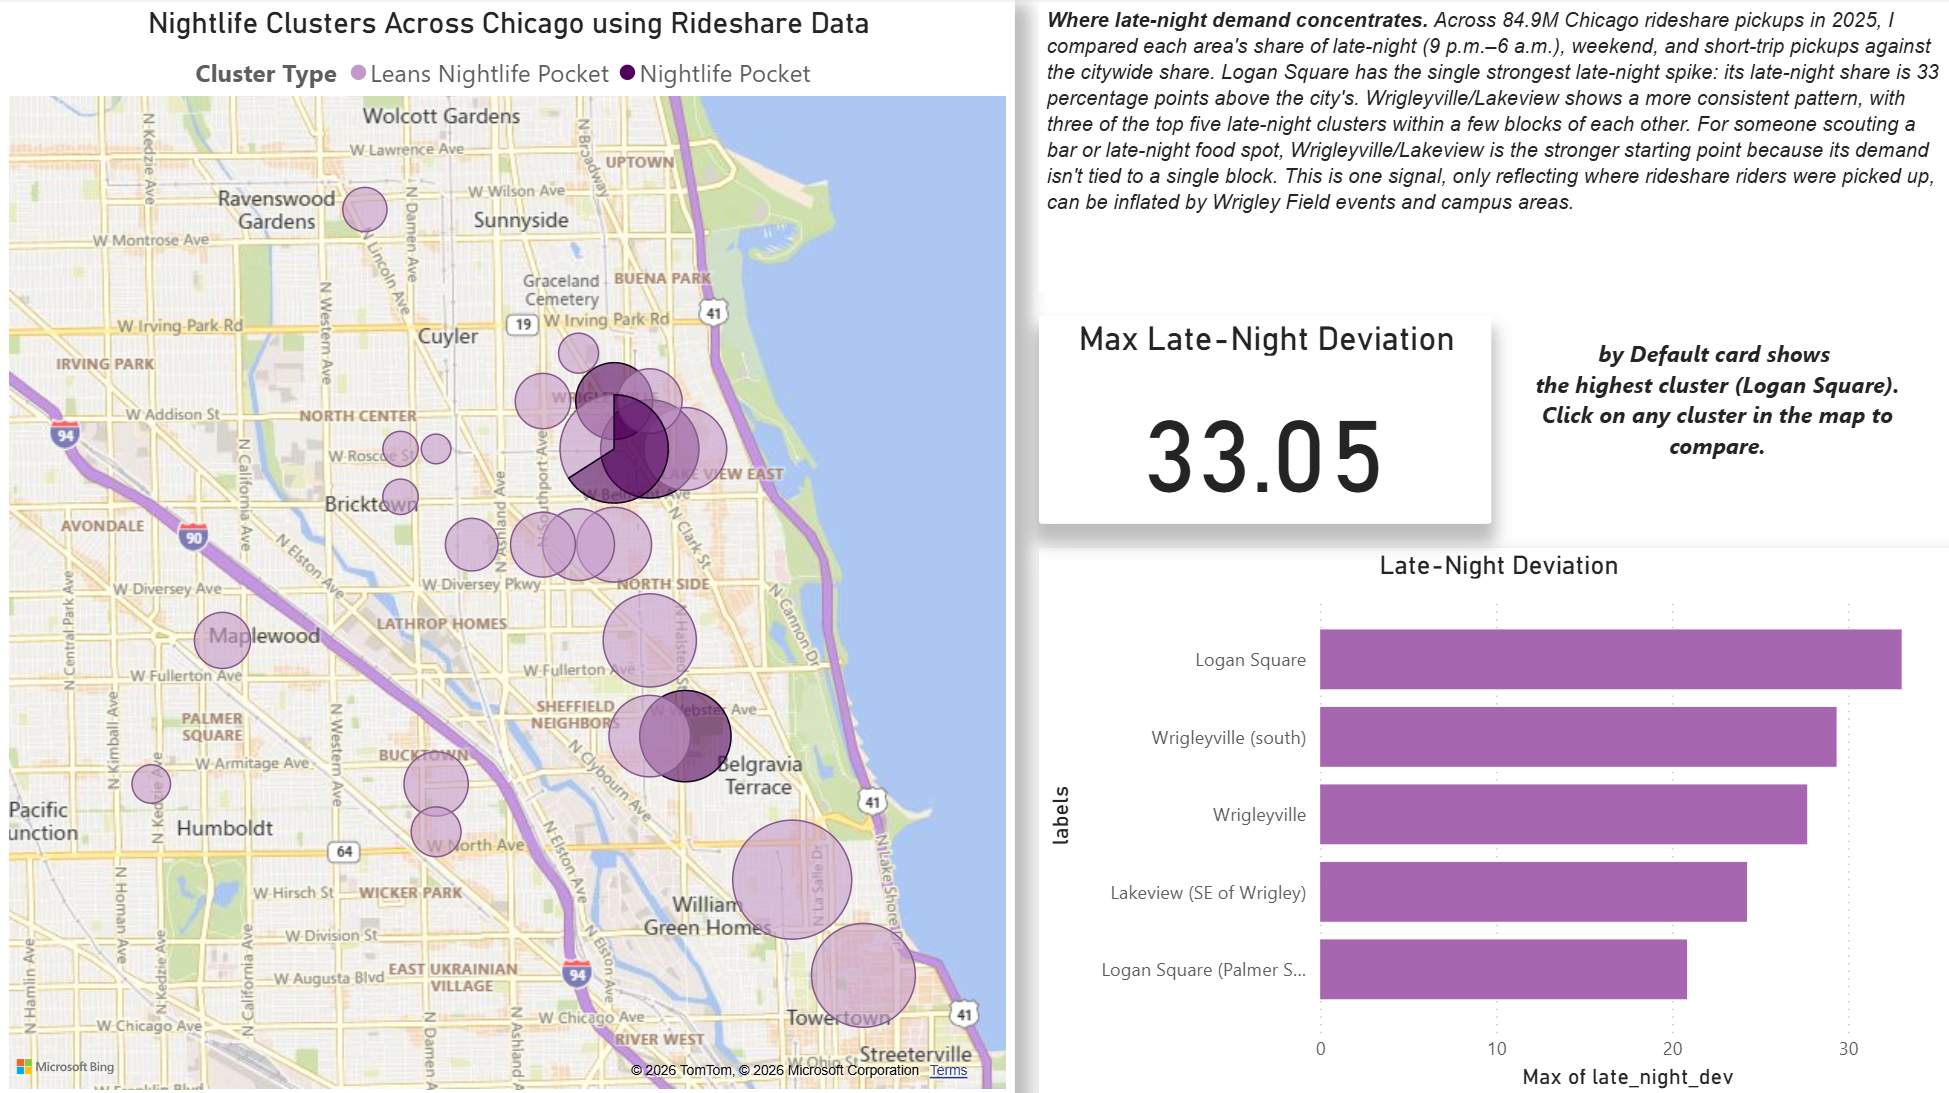

This screenshot's page, from the dashboard's own definition file:
{"tool":"powerbi","page":{"name":"Page 1","canvas":[1280,720],"ordinal":0},"visuals":[{"type":"map","title":"Nightlife Clusters Across Chicago using Rideshare Data","fields":{"Y":["final_clustered_output.cluster_lat_400m"],"X":["final_clustered_output.cluster_lon_400m"],"Series":["final_clustered_output.signature"],"Size":["Sum(final_clustered_output.total_trips)"],"Category":["final_clustered_output.labels"]},"box":[0,0,664,720],"z":0},{"type":"clusteredBarChart","title":"Late-Night Deviation","fields":{"Y":["Max(final_clustered_output.late_night_dev)"],"Category":["final_clustered_output.labels"]},"box":[680,360,600,360],"z":1000},{"type":"card","title":"Max Late-Night Deviation","fields":{"Values":["Max(final_clustered_output.late_night_dev)"]},"box":[680,208,296,136],"z":2000},{"type":"textbox","box":[1000,200,248,136],"z":3000},{"type":"textbox","box":[680,0,600,192],"z":4000}]}

Visuals, with their boxes in screenshot pixels (x1, y1, x2, y2), scaled from the page's 1280x720 canvas onto the 1949x1093 screenshot:
"Nightlife Clusters Across Chicago using Rideshare Data" map: bbox(0, 0, 1011, 1092)
"Late-Night Deviation" clusteredBarChart: bbox(1035, 546, 1948, 1092)
"Max Late-Night Deviation" card: bbox(1035, 316, 1486, 522)
textbox: bbox(1523, 304, 1900, 510)
textbox: bbox(1035, 0, 1948, 291)
